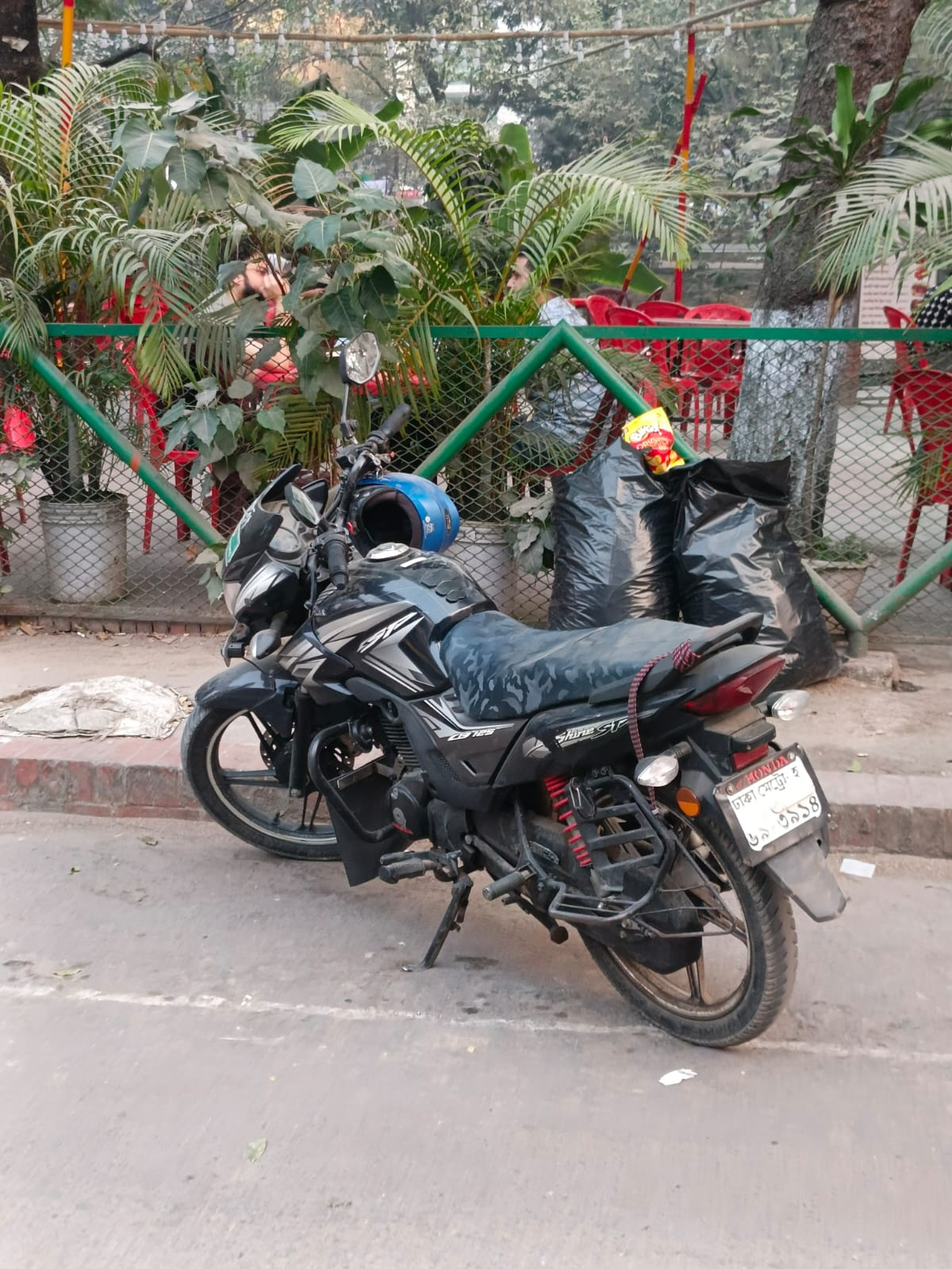Bikes: (143, 426, 855, 1162)
